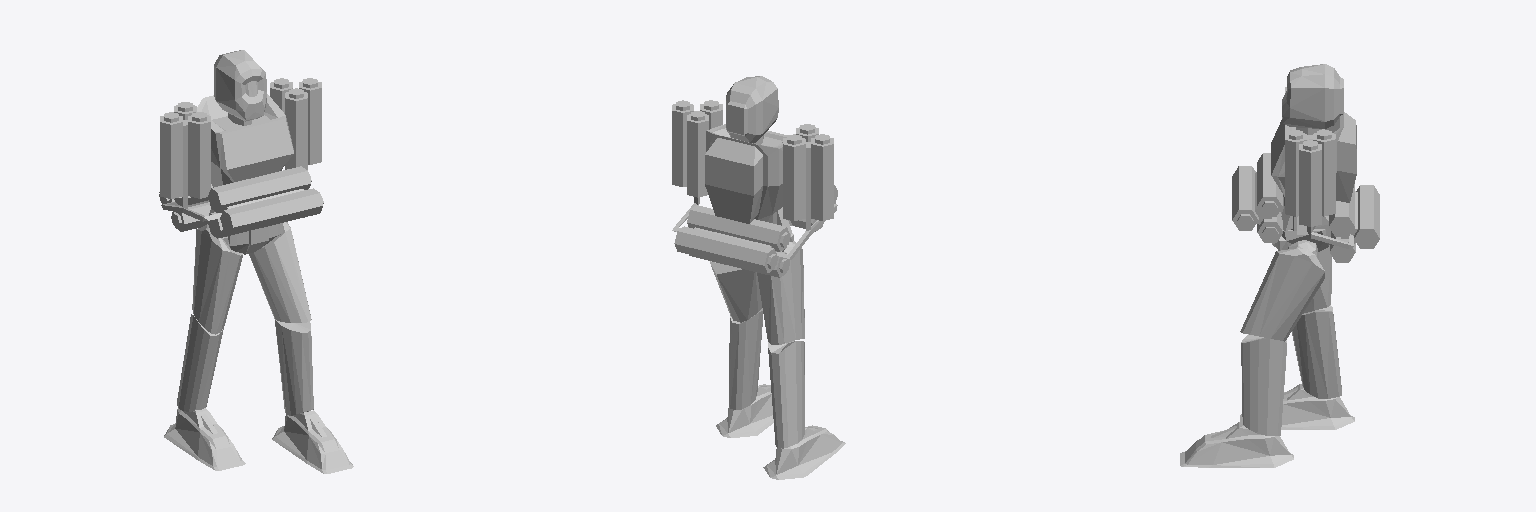
Rendered from robots_000010.obj.
3 renders of one model, left to right at view 1: azimuth 30°, elevation 25°; view 2: azimuth 150°, elevation 25°; view 3: azimuth 270°, elevation 25°, orthographic.
Parts seen in each view (by area): view 1: Cylinder.004_Cylinder.006, Chest_plate_Cube.004, R_Thigh_Cube.005, R_Thigh.002_Cube.027, Head_base.002_Cube.030, R_Shin.002_Cube.029, R_Foot.002_Cube.035, R_Foot_Cube, R_Shin_Cube.007, Pelvis_Cube.006; view 2: Cylinder.004_Cylinder.006, Chest_plate_Cube.004, R_Shin_Cube.007, R_Thigh_Cube.005, Head_base.002_Cube.030, R_Shin.002_Cube.029, R_Foot_Cube, R_Thigh.002_Cube.027, R_Foot.002_Cube.035; view 3: Cylinder.004_Cylinder.006, R_Thigh.002_Cube.027, R_Shin.002_Cube.029, R_Foot.002_Cube.035, R_Shin_Cube.007, Head_base.002_Cube.030, Chest_plate_Cube.004, R_Foot_Cube, R_Thigh_Cube.005, Pelvis_Cube.006.
Boxes of the visible parts, box(x1,y1,x2,y2) form: Cylinder.004_Cylinder.006: box(159, 78, 323, 238); Chest_plate_Cube.004: box(197, 94, 293, 215); R_Thigh_Cube.005: box(192, 224, 242, 334); R_Thigh.002_Cube.027: box(249, 222, 311, 322); Head_base.002_Cube.030: box(214, 50, 266, 121); R_Shin.002_Cube.029: box(275, 320, 313, 415); R_Foot.002_Cube.035: box(272, 410, 353, 473); R_Foot_Cube: box(164, 408, 245, 470); R_Shin_Cube.007: box(177, 314, 223, 411); Pelvis_Cube.006: box(227, 223, 282, 254); Cylinder.004_Cylinder.006: box(672, 100, 837, 277); Chest_plate_Cube.004: box(705, 124, 792, 233); R_Shin_Cube.007: box(768, 341, 804, 448); R_Thigh_Cube.005: box(757, 241, 804, 344); Head_base.002_Cube.030: box(726, 76, 778, 142); R_Shin.002_Cube.029: box(729, 308, 762, 409); R_Foot_Cube: box(763, 425, 845, 479); R_Thigh.002_Cube.027: box(710, 261, 761, 322); R_Foot.002_Cube.035: box(716, 384, 773, 437); Cylinder.004_Cylinder.006: box(1232, 87, 1379, 262); R_Thigh.002_Cube.027: box(1240, 248, 1324, 341); R_Shin.002_Cube.029: box(1241, 334, 1286, 435); R_Foot.002_Cube.035: box(1180, 421, 1293, 467); R_Shin_Cube.007: box(1292, 305, 1341, 398); Head_base.002_Cube.030: box(1282, 64, 1343, 128); Chest_plate_Cube.004: box(1271, 112, 1356, 234); R_Foot_Cube: box(1240, 384, 1354, 429); R_Thigh_Cube.005: box(1303, 245, 1331, 313); Pelvis_Cube.006: box(1272, 216, 1330, 251).
Bounding box in the file's own units: 1.38 × 3.04 × 1.48.